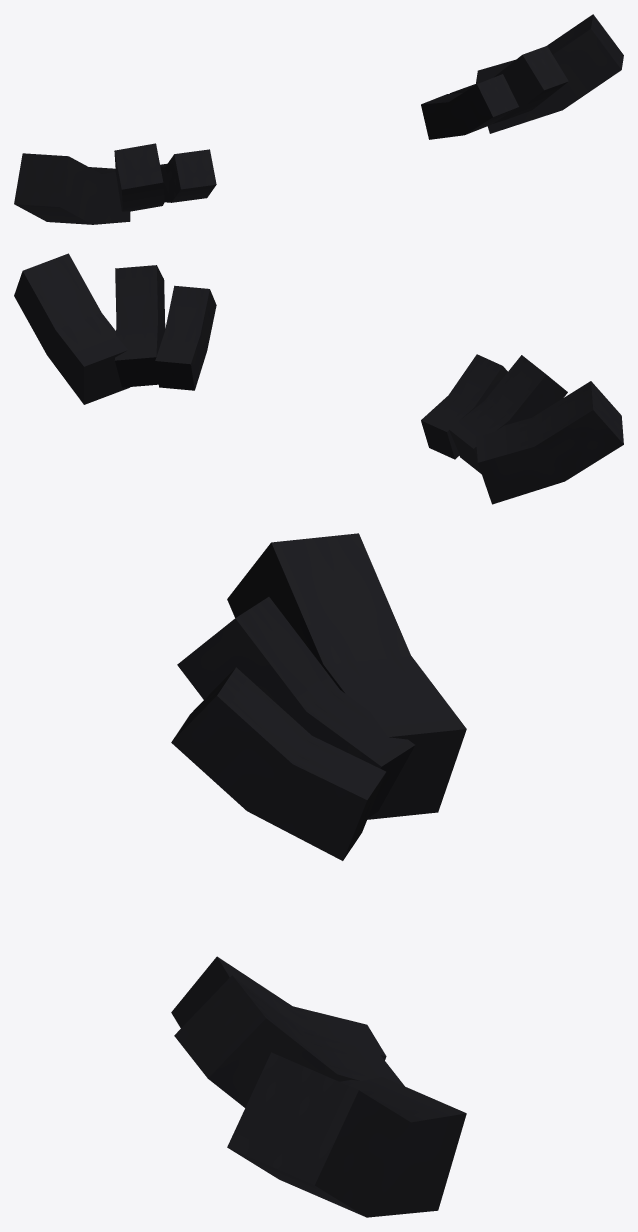
Rendered from eye_lashes.fbx.
3 views of the same model, one above another, from view 1: azimuth 30°, elevation 25°; view 2: azimuth 150°, elevation 25°; view 3: azimuth 270°, elevation 25° (orthographic). The views are drawn at different scales.
Visible parts, largest first — view 1: eye_lashes; view 2: eye_lashes; view 3: eye_lashes.
Part boxes in pixels (x1,y1,x2,y2): eye_lashes: (14,14,623,224); eye_lashes: (14,253,623,504); eye_lashes: (171,533,466,1217).
Size of the model in its own units: 50.75 by 8.54 by 10.65.
